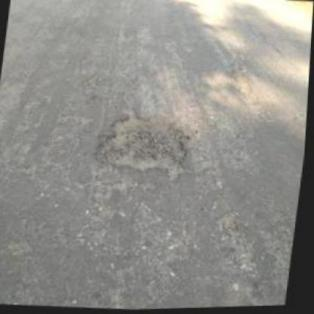Hueco: (89, 105, 201, 184), (215, 212, 242, 234)
